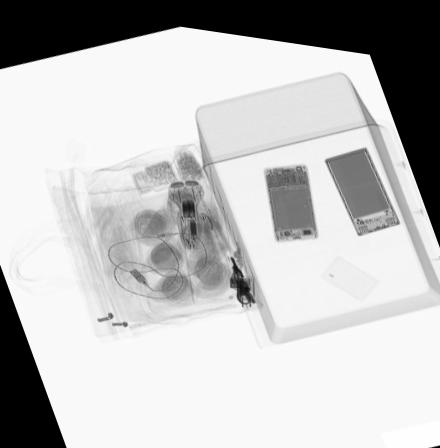Powerbank: (321, 132, 403, 226)
